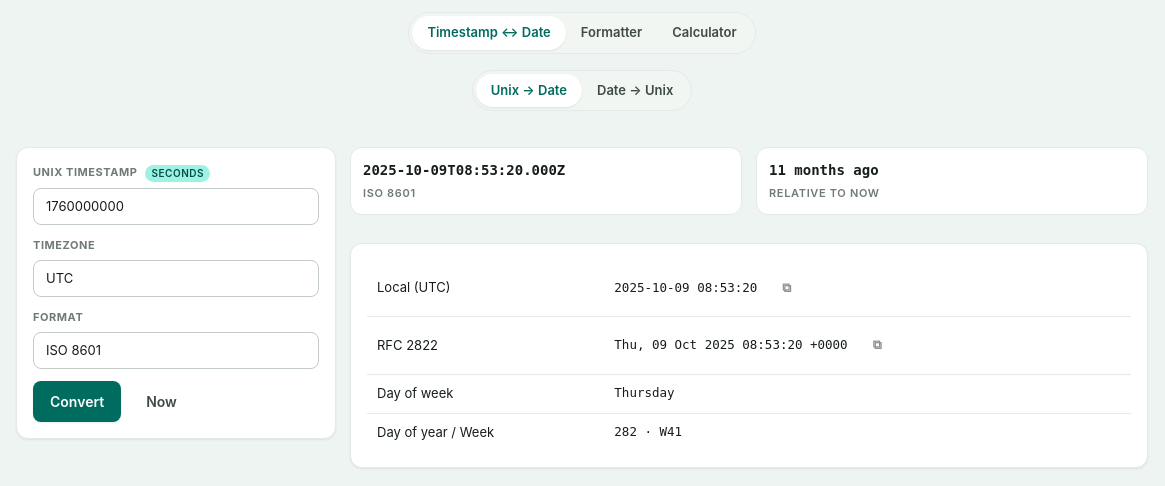
it: DateToolsPage — timestamp direction toggle › Date -> Unix direction shows Unix seconds and milliseconds results
The width and height of the screenshot is (1165, 486).
Click the button "Date → Unix".
click(635, 90)  # box [582, 74, 688, 107]
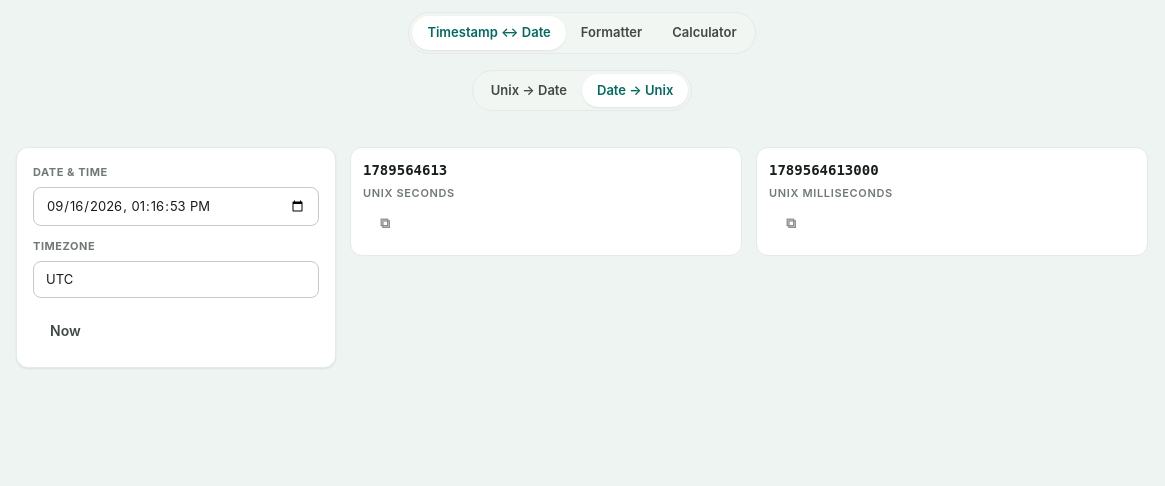
Result: the text "Unix seconds" is shown at [363, 186, 455, 200]
Result: the text "Unix milliseconds" is shown at [769, 186, 893, 200]
